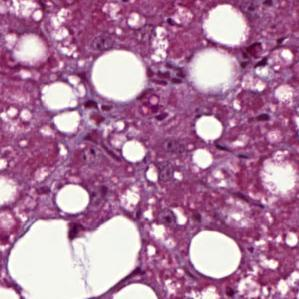ballooning: (184, 43, 244, 100)
